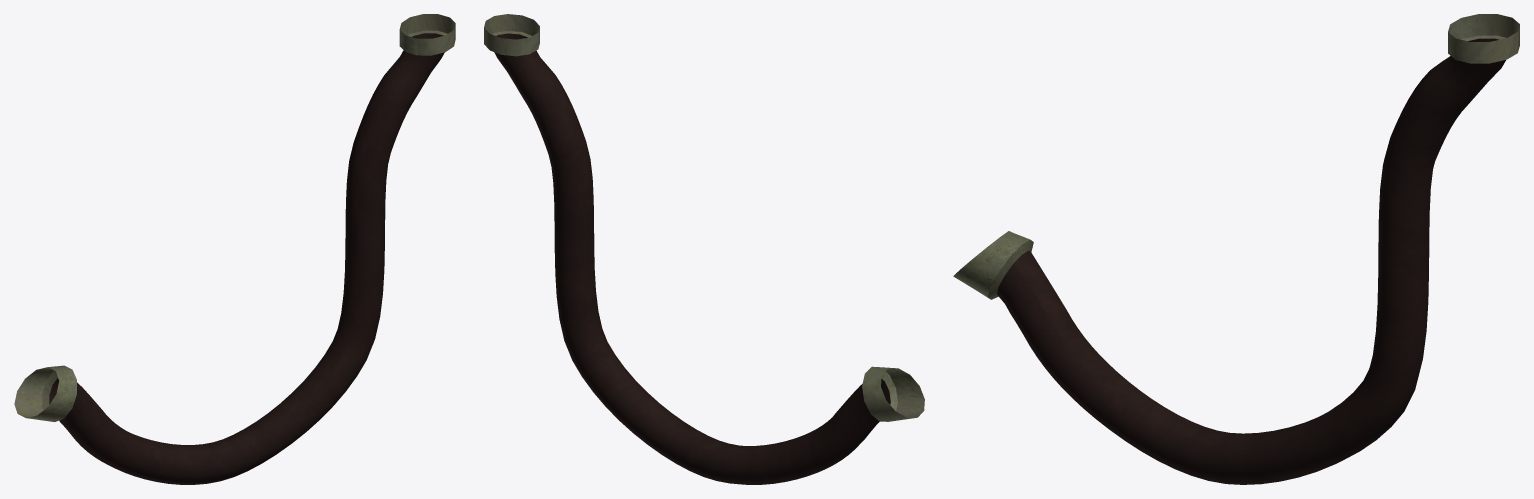
Rendered from Cable04.fbx.
3 renders of one model, left to right at view 1: azimuth 30°, elevation 25°; view 2: azimuth 150°, elevation 25°; view 3: azimuth 330°, elevation 25°, orthographic. The views are drawn at different scales.
Visible parts, largest first — view 1: Cab4; view 2: Cab4; view 3: Cab4.
Part boxes in pixels (left/top/right/bottom): Cab4: left=14, top=14, right=455, bottom=484; Cab4: left=484, top=14, right=924, bottom=484; Cab4: left=953, top=14, right=1519, bottom=484.
Size of the model in its own units: 78.98 by 70.48 by 9.04.
